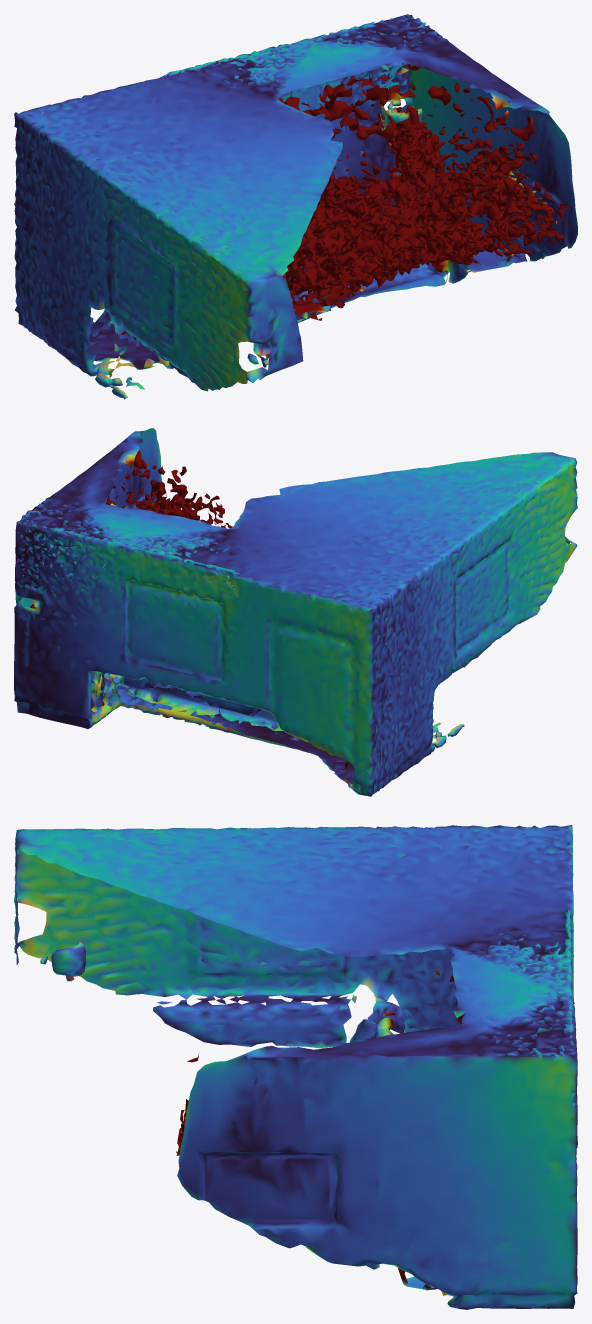
File: rtab_estimated_error.glb
The picture shows the model from 3 angles, top to bottom: view 1: azimuth 30°, elevation 25°; view 2: azimuth 150°, elevation 25°; view 3: azimuth 270°, elevation 25°; orthographic projection. The views are drawn at different scales.
Size of the model in its own units: 4.95 by 2.57 by 5.03.
